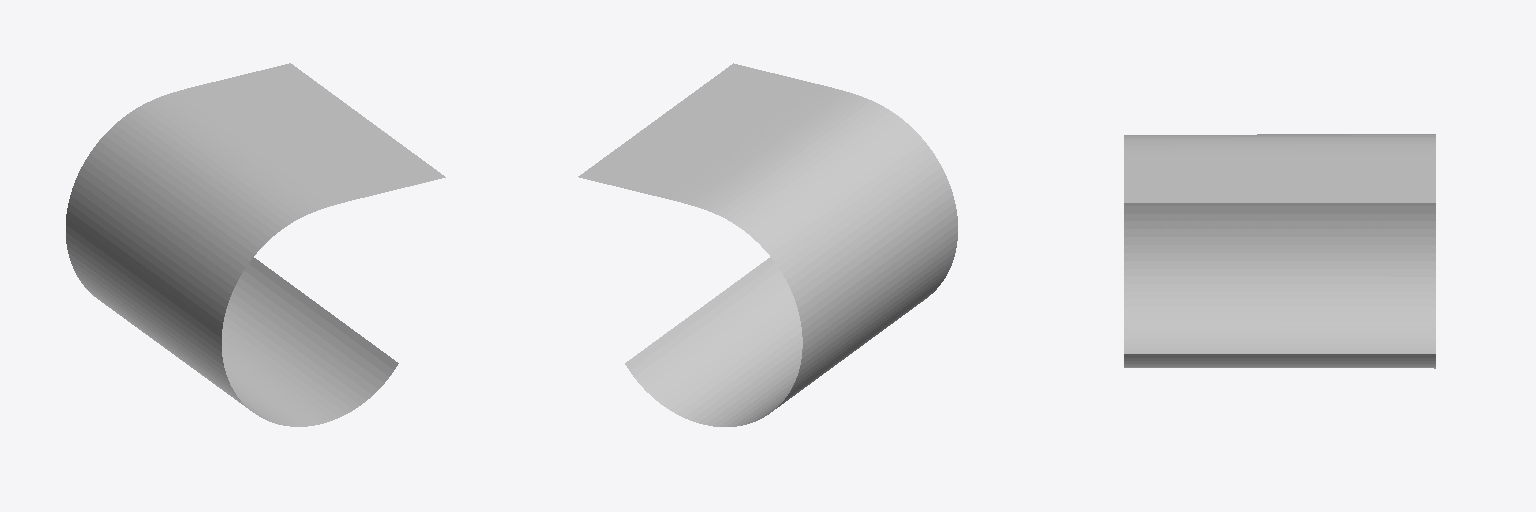
File: CurvePaper_000029.obj
3 views of the same model, side by side, from view 1: azimuth 30°, elevation 25°; view 2: azimuth 150°, elevation 25°; view 3: azimuth 270°, elevation 25° (orthographic).
Parts seen in each view (by area): view 1: Plane; view 2: Plane; view 3: Plane.
Boxes of the visible parts, <box> form: Plane: <box>66,63,445,426</box>; Plane: <box>578,63,957,426</box>; Plane: <box>1124,134,1435,368</box>.
Size of the model in its own units: 1.89 by 1.74 by 2.26.